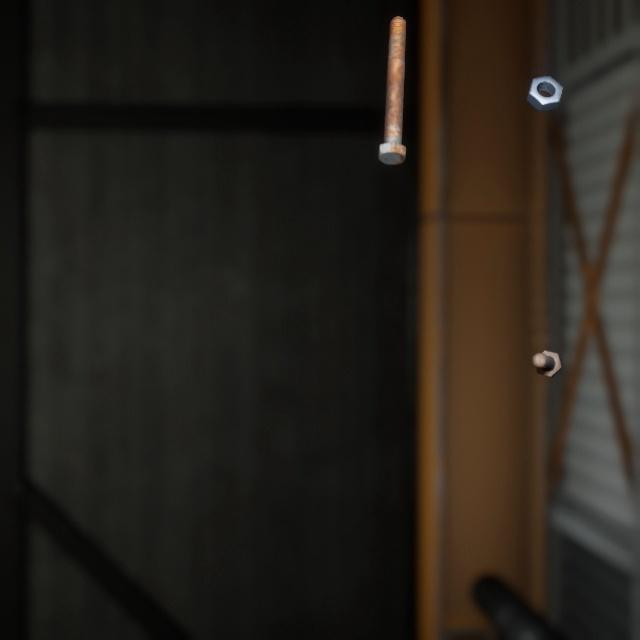bolt: (373, 2, 410, 158), (527, 327, 566, 363)
nut: (522, 60, 567, 104)
